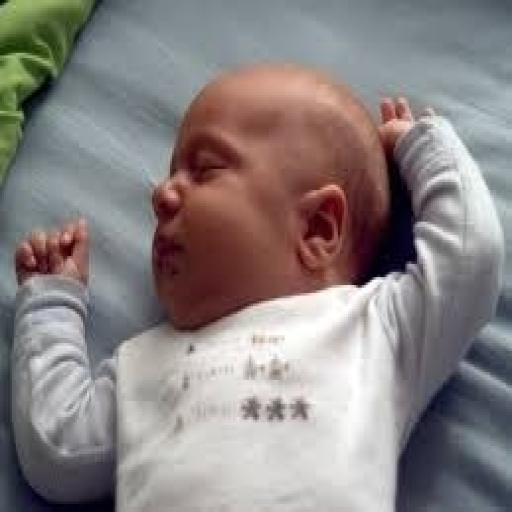sleeping: (8, 56, 506, 510)
